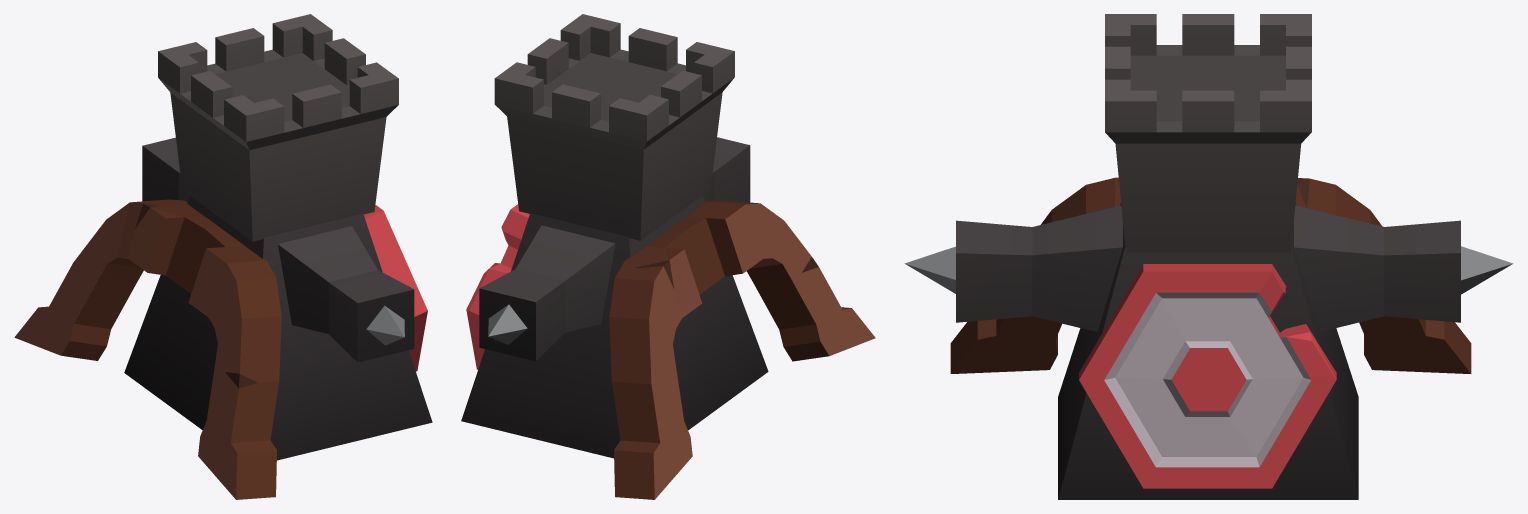
The model's file is definitely tower 2.fbx.
3 views of the same model, side by side, from view 1: azimuth 30°, elevation 25°; view 2: azimuth 150°, elevation 25°; view 3: azimuth 270°, elevation 25° (orthographic). The views are drawn at different scales.
Visible parts, largest first — view 1: literary tower 2.001; view 2: literary tower 2.001; view 3: literary tower 2.001.
Part boxes in pixels (x1,y1,x2,y2): literary tower 2.001: [14, 14, 432, 499]; literary tower 2.001: [461, 14, 875, 499]; literary tower 2.001: [904, 14, 1513, 499].
Bounding box in the file's own units: 166 × 201 × 284.
